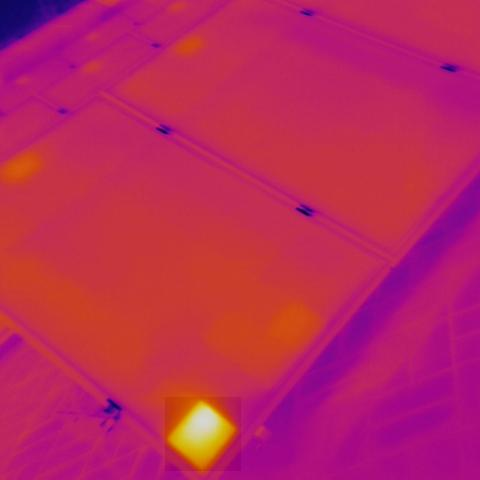fault: (165, 398, 241, 471)
